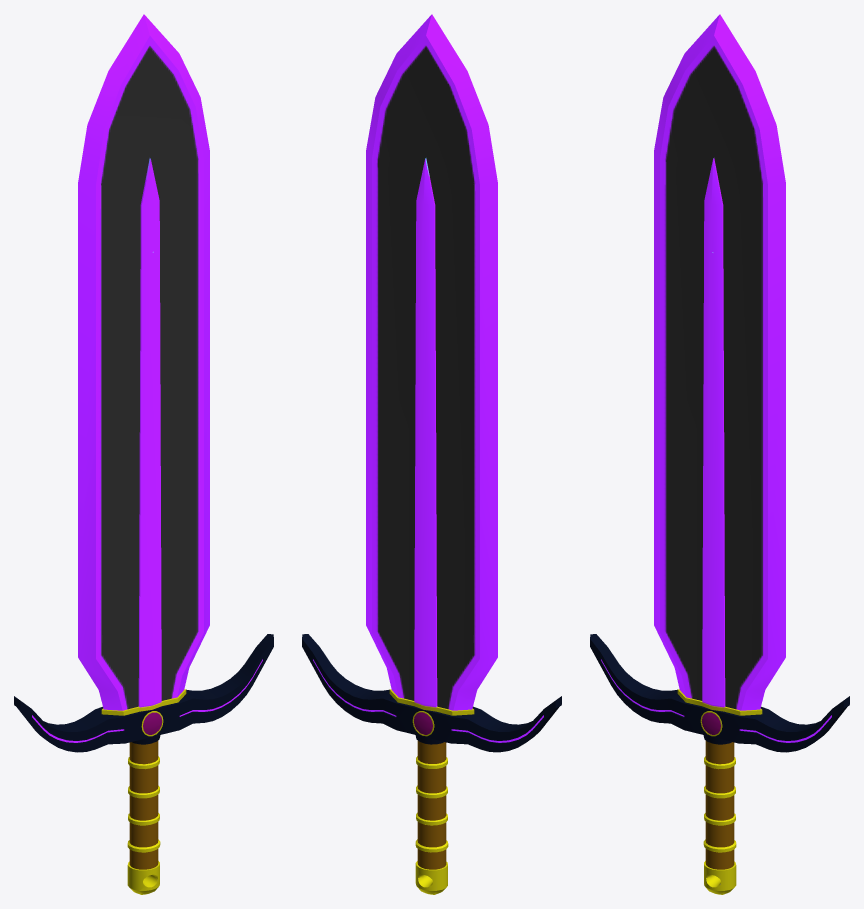
Rendered from shadow_essence_sword.glb.
3 views of the same model, side by side, from view 1: azimuth 30°, elevation 25°; view 2: azimuth 150°, elevation 25°; view 3: azimuth 330°, elevation 25° (orthographic).
Visible parts, largest first — view 1: Shadow Essence; view 2: Shadow Essence; view 3: Shadow Essence.
Boxes of the visible parts, box(x1,y1,x2,y2) form: Shadow Essence: box(14, 14, 273, 894); Shadow Essence: box(302, 14, 561, 894); Shadow Essence: box(590, 14, 849, 894).
Bounding box in the file's own units: 1.57 × 5.08 × 0.1902.
Materials: 1 (1 with a texture image).
